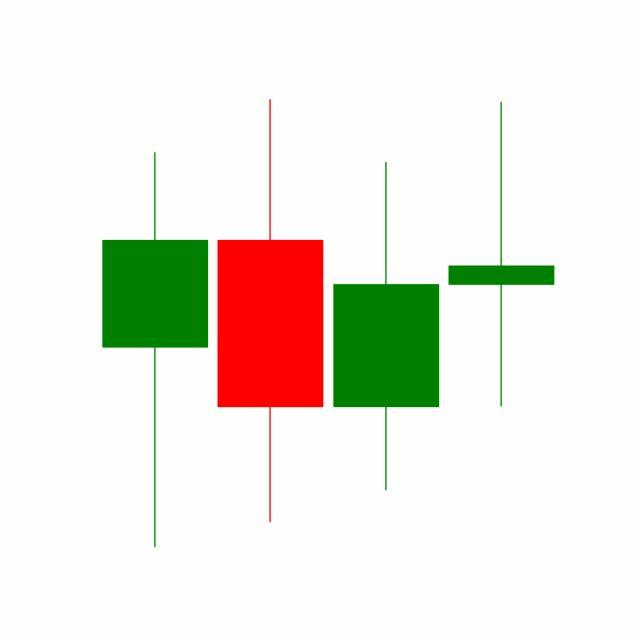Spinning Top: (444, 99, 560, 411)
